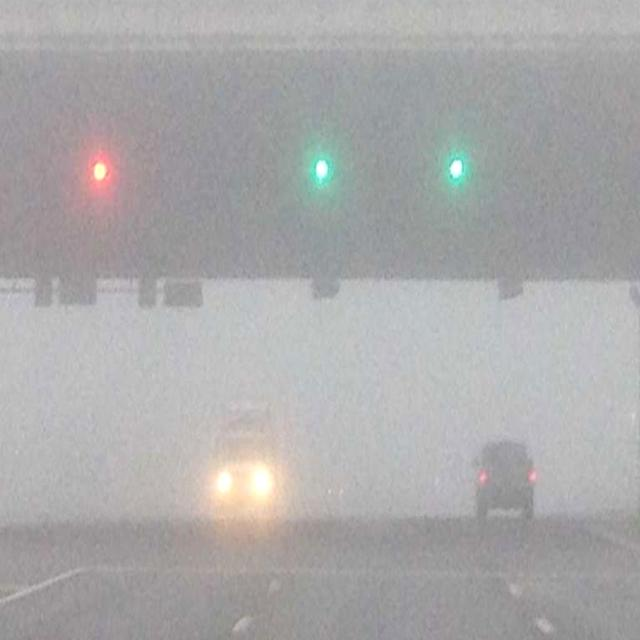Car: (471, 436, 537, 524)
Truck: (212, 400, 282, 524)
